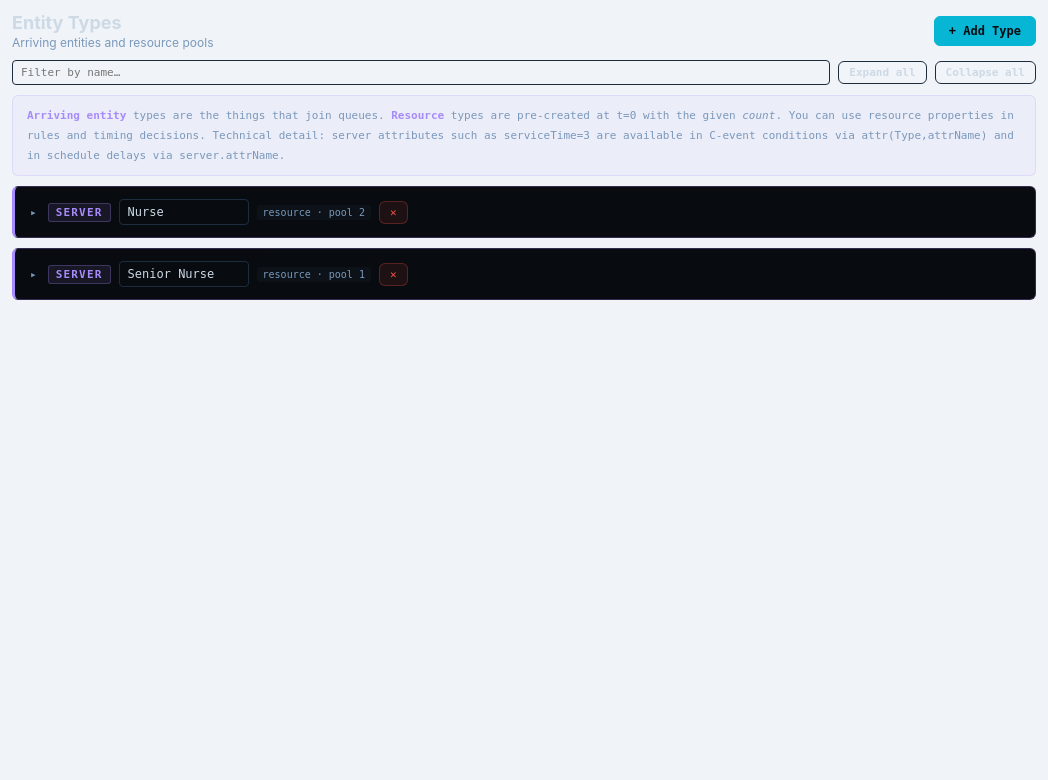
Test: EntityTypeEditor — entity family / inheritance (Phase 2, 2b) › renders the "Inherits from" picker without throwing when expanded
This screenshot has width=1048, height=780.
Click the button named "Expand" at x=33, y=274, box [27,267,40,282]
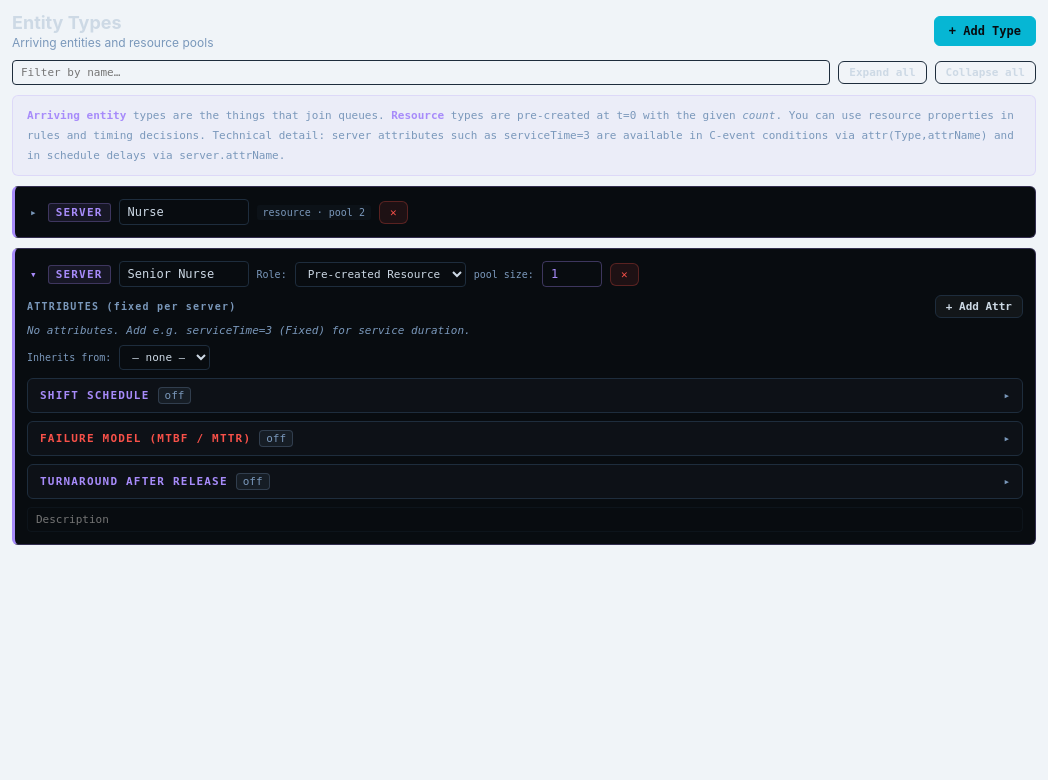
Check: the text "Inherits from:" is shown, box [27,352,111,363]
